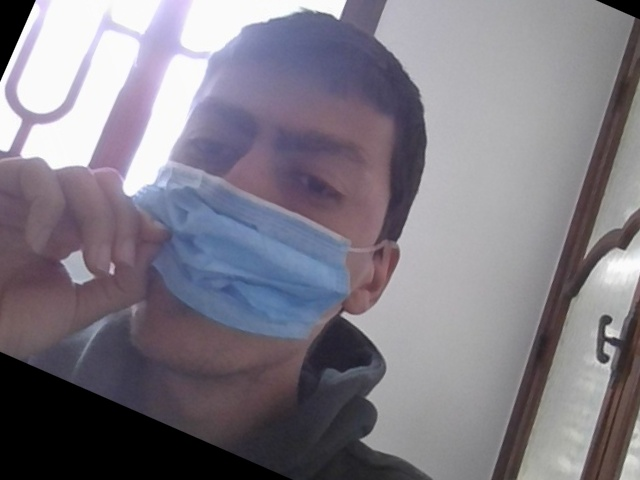mask_weared_incorrect: (119, 36, 391, 375)
